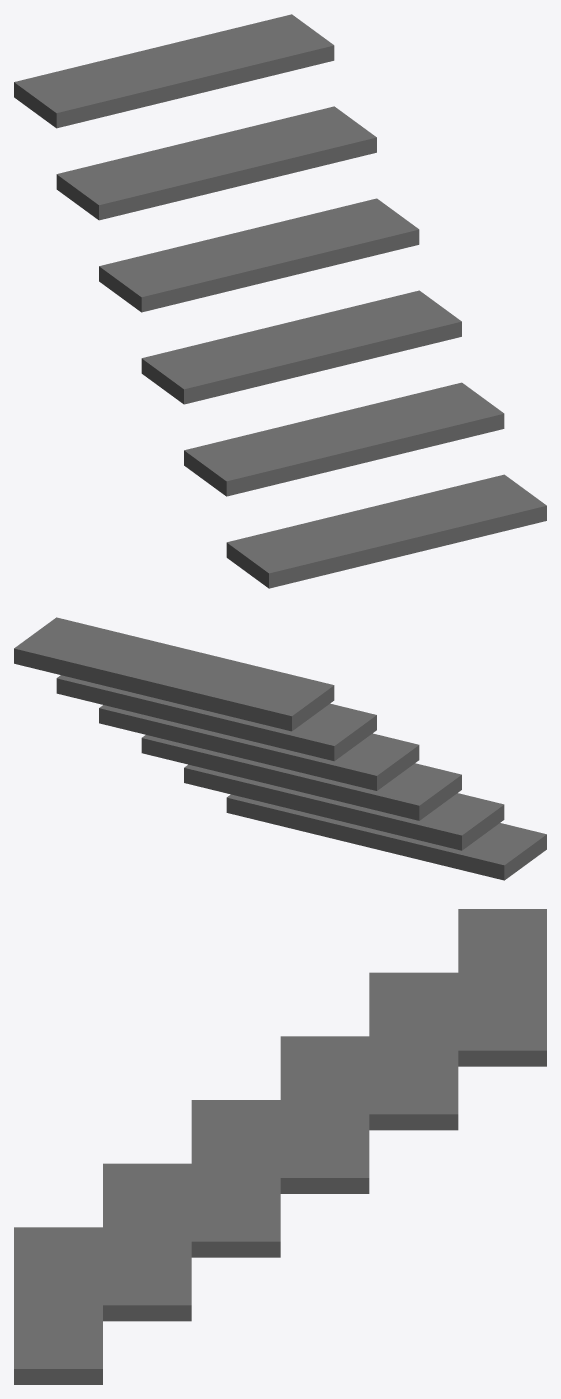
File: Stairs_003.glb
3 views of the same model, one above another, from view 1: azimuth 30°, elevation 25°; view 2: azimuth 150°, elevation 25°; view 3: azimuth 270°, elevation 25° (orthographic). The views are drawn at different scales.
Parts seen in each view (by area): view 1: Stairs_003; view 2: Stairs_003; view 3: Stairs_003.
Boxes of the visible parts, left/top/right/bottom form: Stairs_003: left=14, top=14, right=546, bottom=588; Stairs_003: left=14, top=617, right=546, bottom=880; Stairs_003: left=14, top=909, right=546, bottom=1384.
Bounding box in the file's own units: 1.6 × 1.76 × 2.54.
1 material, 1 textured.
